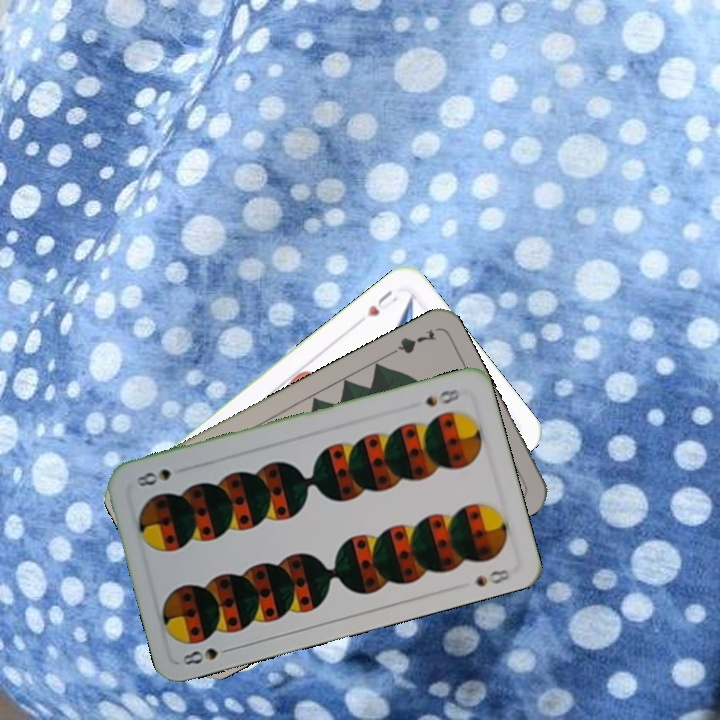G7: (382, 325, 439, 360)
HU: (362, 286, 401, 320)
S8: (178, 643, 237, 668), (421, 385, 462, 409)
